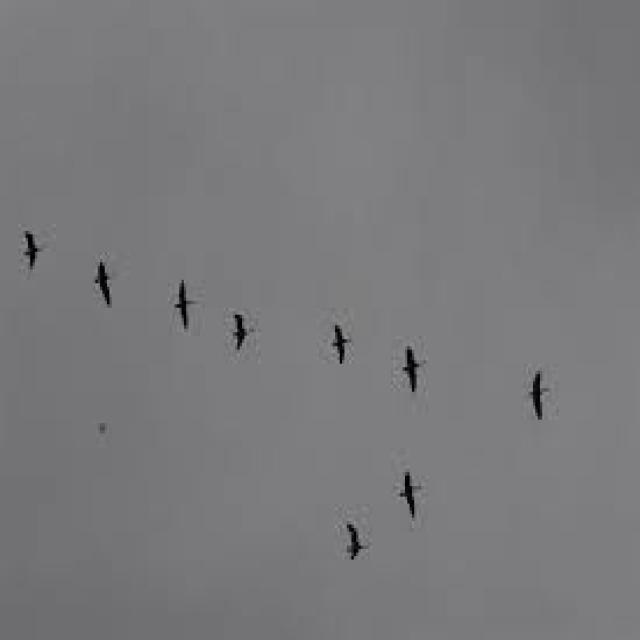bird: (387, 302, 462, 439), (530, 311, 578, 462), (224, 276, 278, 409), (7, 214, 63, 342), (324, 299, 388, 404), (330, 510, 390, 594), (394, 454, 444, 550), (161, 274, 221, 352), (85, 240, 134, 324)
